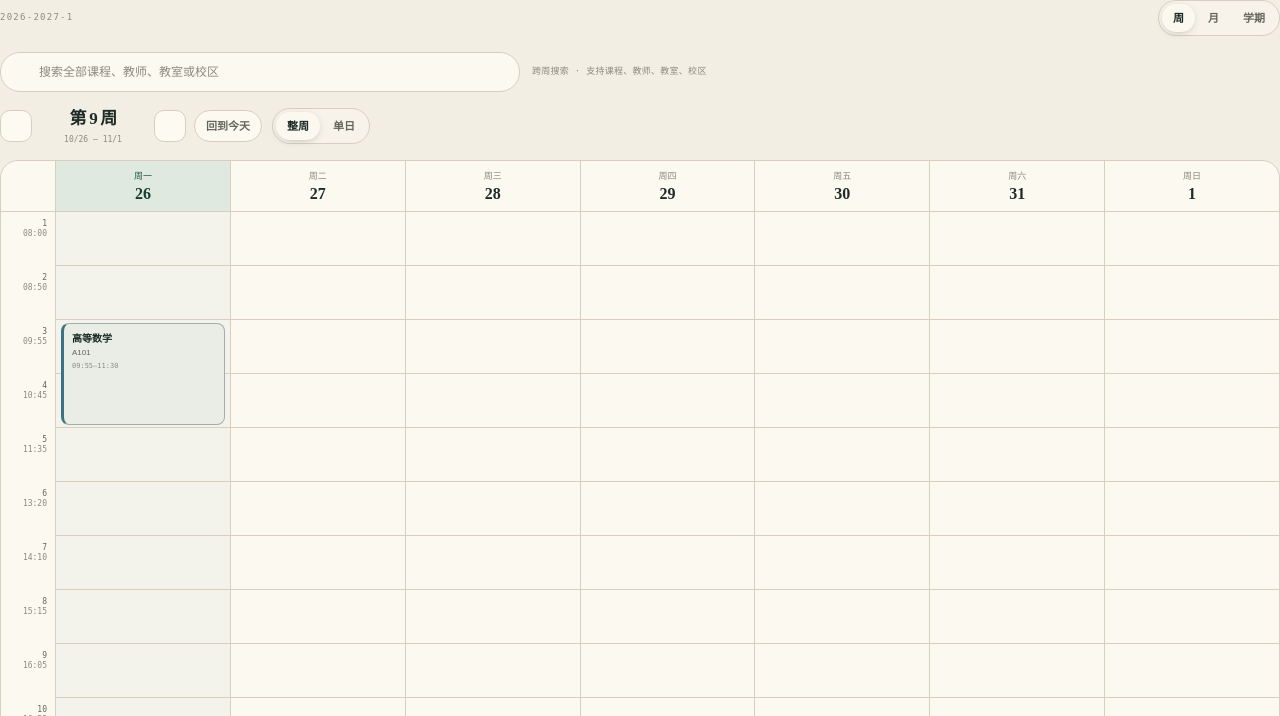
Test: Schedule page › filters courses by search and clears the query
Type "不存在" into the field labelled "搜索全部课程、教师、教室或校区" at {"x": 260, "y": 72}, box [0,52,520,92]
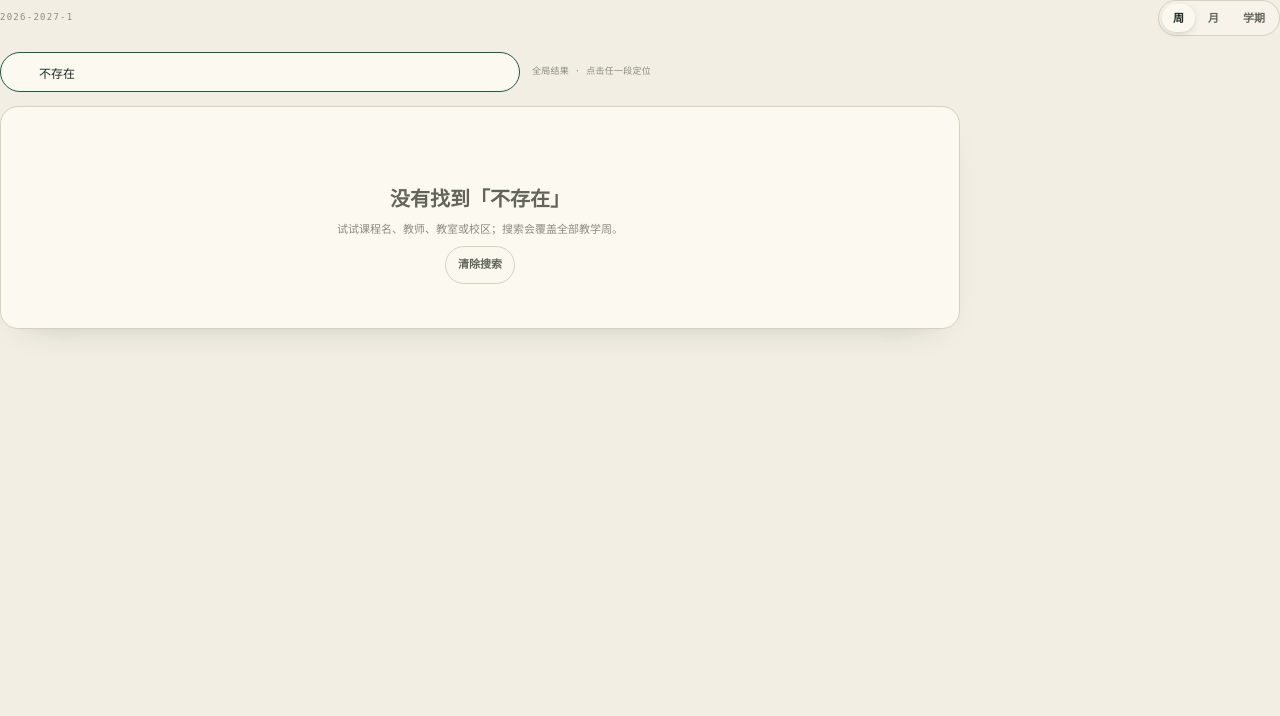
Expected: the text "没有找到「不存在」" is shown, [390,184,570,214]
Click the button named "清除搜索" at {"x": 502, "y": 72}, box [491,61,513,83]
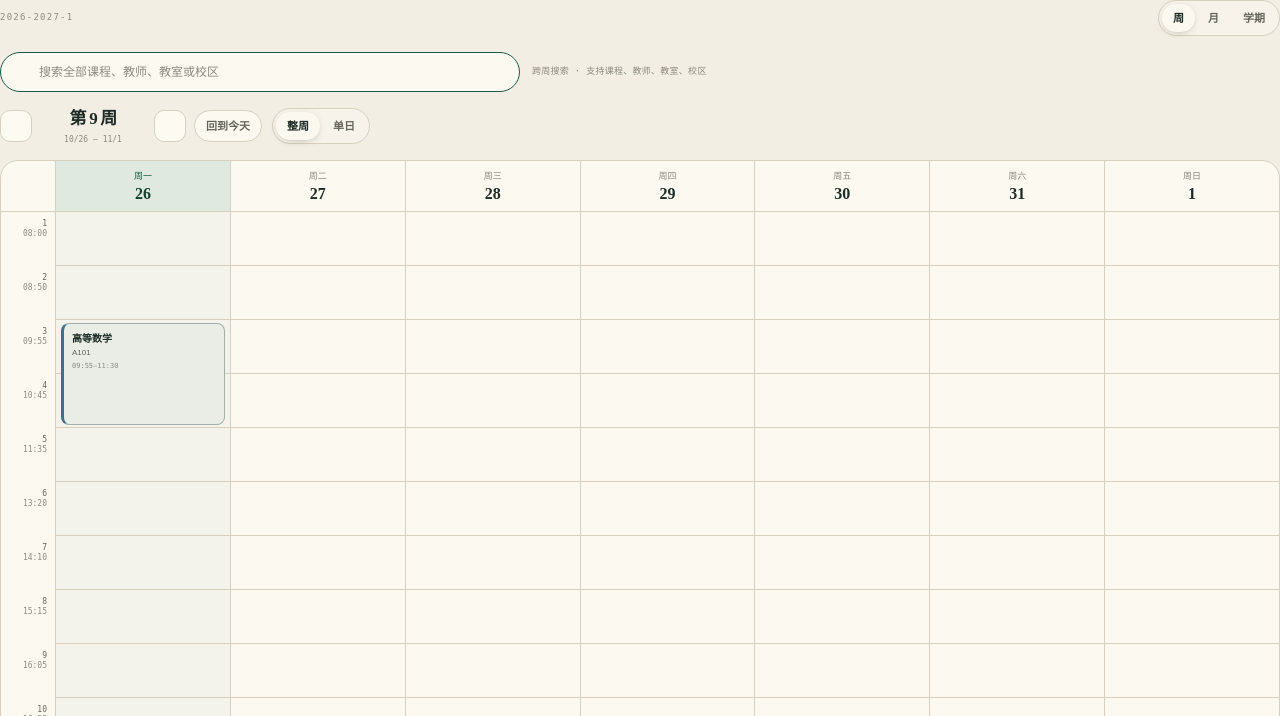
Expected: the text "高等数学" is shown, [72,333,112,344]
